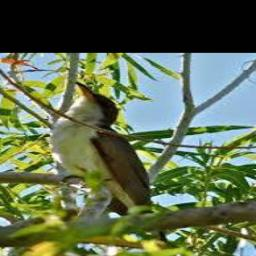Cuckoo: (50, 82, 185, 256)
